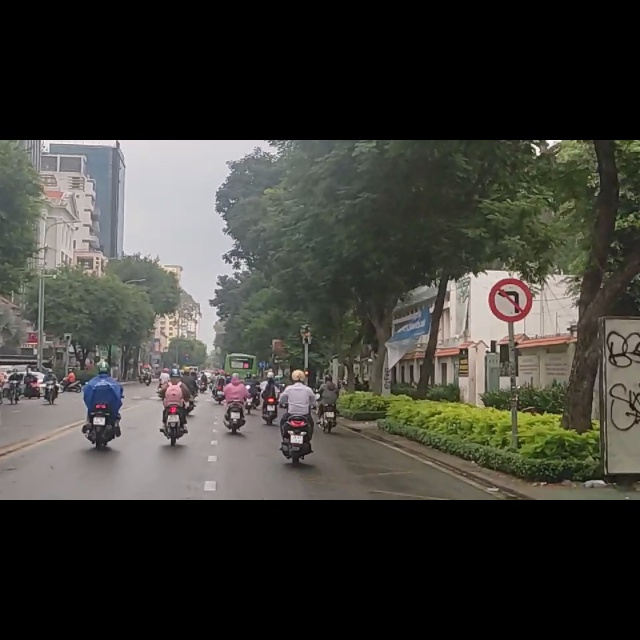bien_cam: (488, 247, 533, 326)
